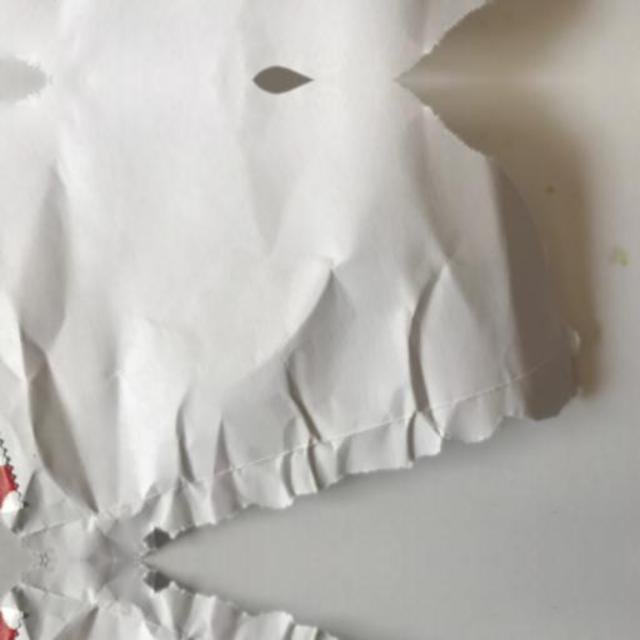paper: (0, 79, 578, 558), (0, 0, 578, 80), (0, 561, 578, 640)
